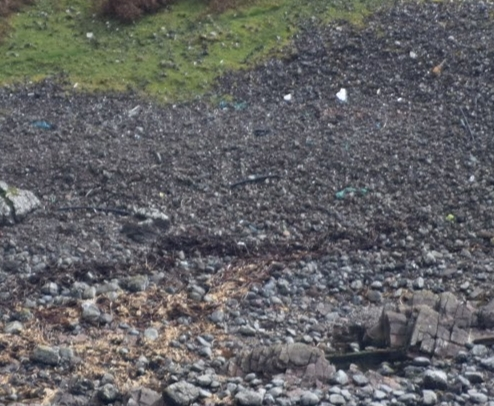net: (333, 183, 370, 203)
straight_bar: (322, 342, 404, 367)
tube: (58, 200, 134, 217), (454, 105, 481, 142), (227, 172, 280, 190)
white_in_green: (318, 71, 361, 115), (21, 105, 63, 141)
